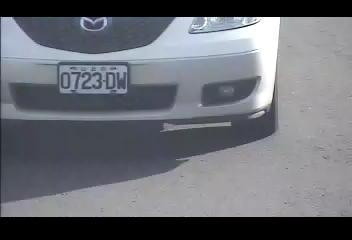plate: (56, 62, 129, 95)
